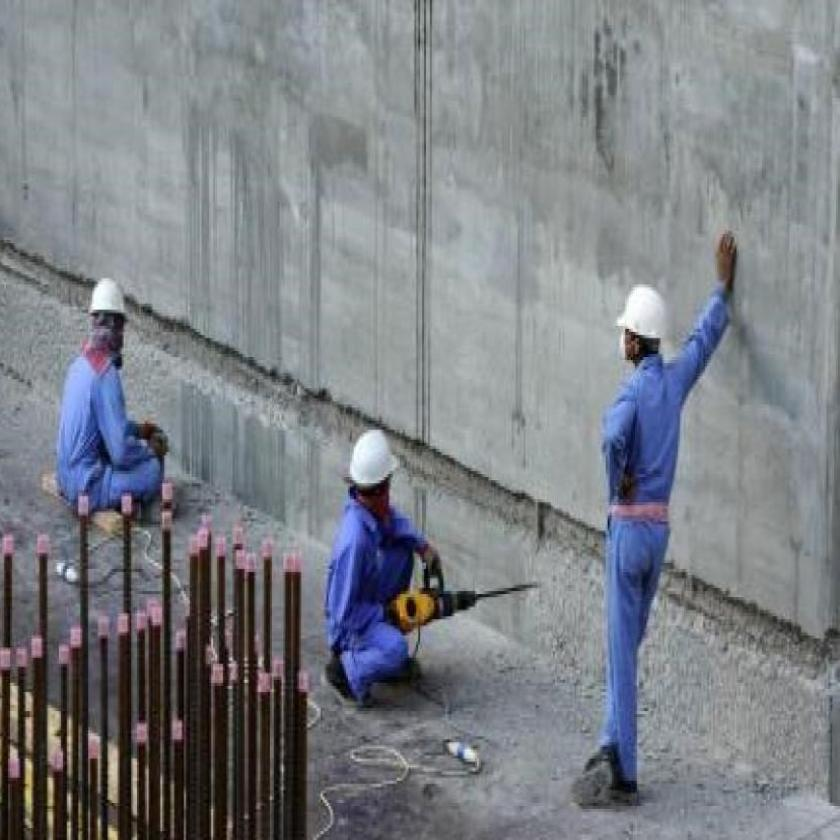Con_casco: (75, 262, 153, 376), (348, 428, 404, 507), (618, 282, 665, 366)
